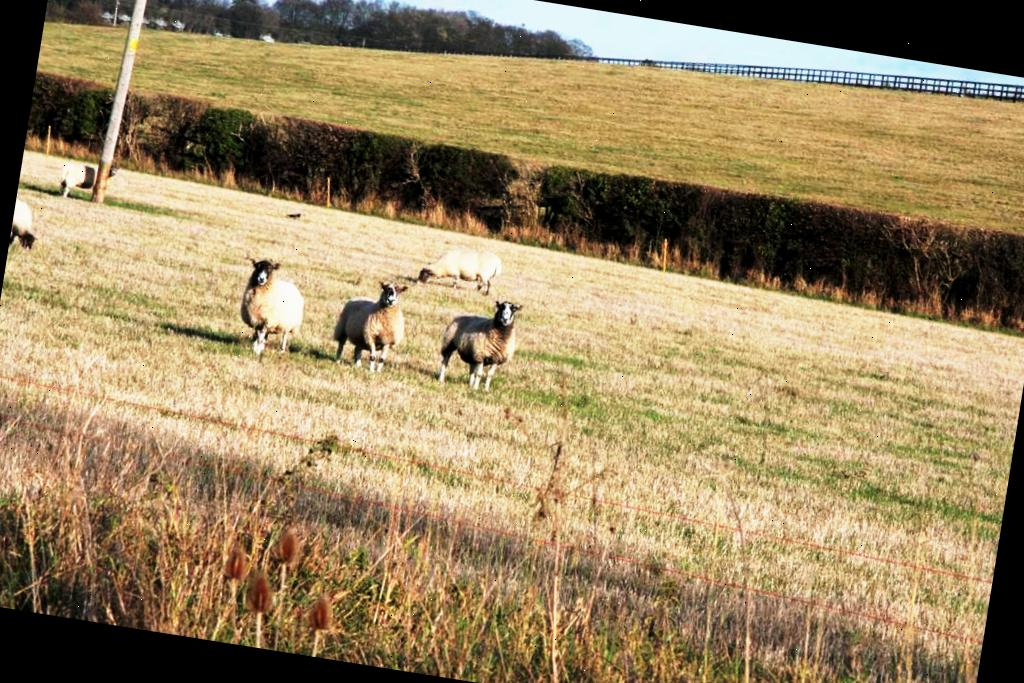Sheep: (328, 272, 412, 381), (434, 292, 521, 396), (231, 258, 308, 360), (418, 242, 504, 294), (56, 160, 116, 203), (9, 194, 43, 247)
